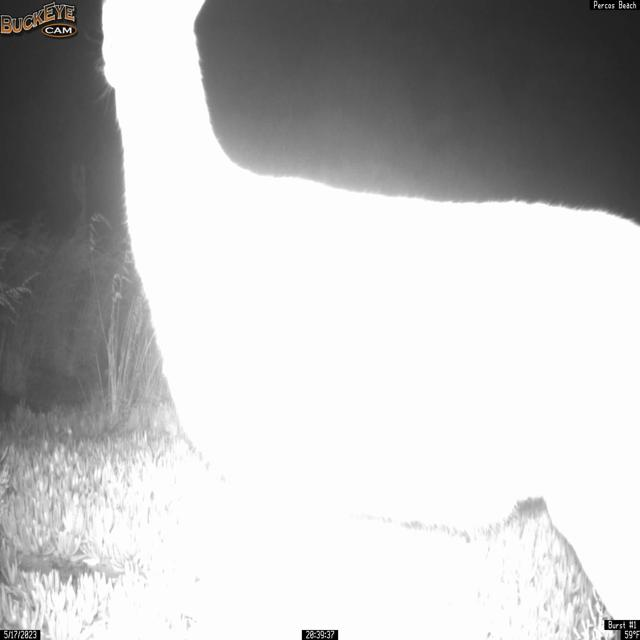deer: (94, 0, 640, 635)
